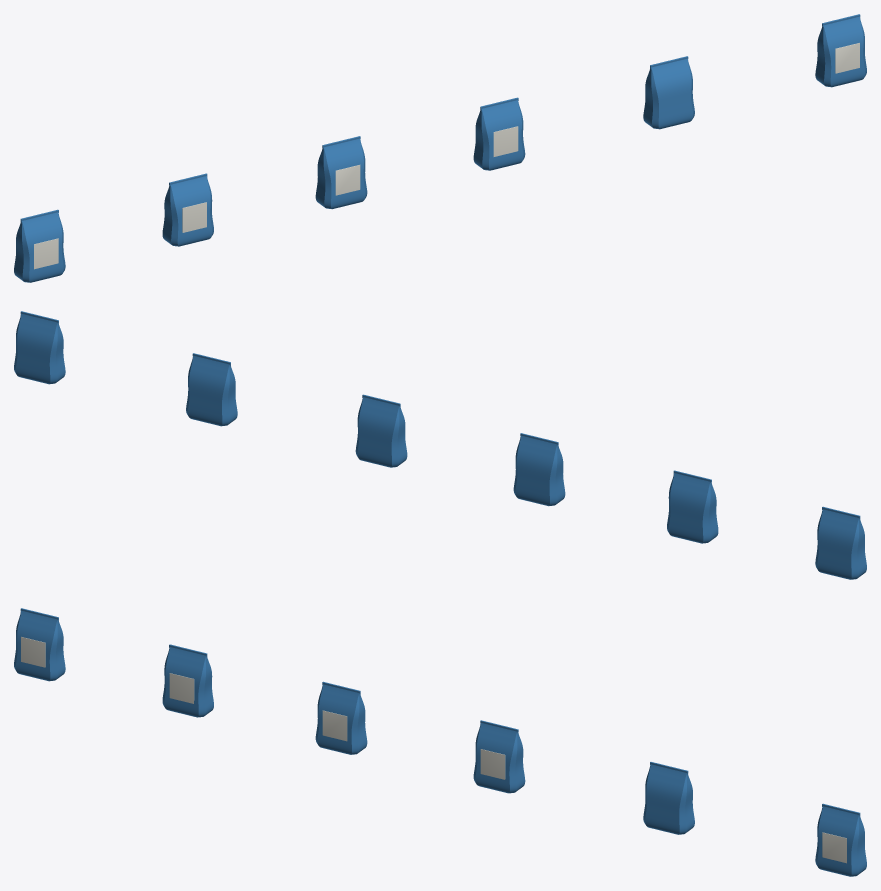
File: pack-check.glb
The picture shows the model from 3 angles, top to bottom: view 1: azimuth 30°, elevation 25°; view 2: azimuth 150°, elevation 25°; view 3: azimuth 330°, elevation 25°; orthographic projection.
Visible parts, largest first — view 1: TCAS_concept_pack_sample_4_formed_pouch, TCAS_concept_pack_sample_2_formed_pouch, TCAS_concept_pack_sample_3_formed_pouch, TCAS_concept_pack_sample_0_formed_pouch, TCAS_concept_pack_sample_1_formed_pouch, TCAS_concept_pack_sample_5_formed_pouch, TCAS_concept_pack_sample_2_label, TCAS_concept_pack_sample_3_label, TCAS_concept_pack_sample_0_label, TCAS_concept_pack_sample_1_label, TCAS_concept_pack_sample_5_label; view 2: TCAS_concept_pack_sample_2_formed_pouch, TCAS_concept_pack_sample_3_formed_pouch, TCAS_concept_pack_sample_1_formed_pouch, TCAS_concept_pack_sample_0_formed_pouch, TCAS_concept_pack_sample_4_formed_pouch, TCAS_concept_pack_sample_5_formed_pouch; view 3: TCAS_concept_pack_sample_4_formed_pouch, TCAS_concept_pack_sample_2_formed_pouch, TCAS_concept_pack_sample_3_formed_pouch, TCAS_concept_pack_sample_5_formed_pouch, TCAS_concept_pack_sample_0_formed_pouch, TCAS_concept_pack_sample_1_formed_pouch, TCAS_concept_pack_sample_3_label, TCAS_concept_pack_sample_2_label, TCAS_concept_pack_sample_1_label, TCAS_concept_pack_sample_0_label, TCAS_concept_pack_sample_5_label.
Part boxes in pixels (x1=…): TCAS_concept_pack_sample_4_formed_pouch: x1=643, y1=58, x2=694, y2=129; TCAS_concept_pack_sample_2_formed_pouch: x1=315, y1=138, x2=367, y2=209; TCAS_concept_pack_sample_3_formed_pouch: x1=473, y1=100, x2=525, y2=170; TCAS_concept_pack_sample_0_formed_pouch: x1=14, y1=212, x2=65, y2=282; TCAS_concept_pack_sample_1_formed_pouch: x1=162, y1=176, x2=213, y2=246; TCAS_concept_pack_sample_5_formed_pouch: x1=815, y1=16, x2=866, y2=87; TCAS_concept_pack_sample_2_label: x1=335, y1=165, x2=360, y2=195; TCAS_concept_pack_sample_3_label: x1=493, y1=126, x2=518, y2=156; TCAS_concept_pack_sample_0_label: x1=34, y1=238, x2=58, y2=269; TCAS_concept_pack_sample_1_label: x1=182, y1=202, x2=206, y2=232; TCAS_concept_pack_sample_5_label: x1=835, y1=43, x2=859, y2=73; TCAS_concept_pack_sample_2_formed_pouch: x1=513, y1=435, x2=565, y2=506; TCAS_concept_pack_sample_3_formed_pouch: x1=355, y1=397, x2=407, y2=467; TCAS_concept_pack_sample_1_formed_pouch: x1=667, y1=473, x2=718, y2=543; TCAS_concept_pack_sample_0_formed_pouch: x1=815, y1=509, x2=866, y2=579; TCAS_concept_pack_sample_4_formed_pouch: x1=186, y1=355, x2=237, y2=426; TCAS_concept_pack_sample_5_formed_pouch: x1=14, y1=313, x2=65, y2=384; TCAS_concept_pack_sample_4_formed_pouch: x1=643, y1=764, x2=694, y2=834; TCAS_concept_pack_sample_2_formed_pouch: x1=315, y1=684, x2=367, y2=754; TCAS_concept_pack_sample_3_formed_pouch: x1=473, y1=723, x2=525, y2=793; TCAS_concept_pack_sample_5_formed_pouch: x1=815, y1=806, x2=866, y2=876; TCAS_concept_pack_sample_0_formed_pouch: x1=14, y1=610, x2=65, y2=681; TCAS_concept_pack_sample_1_formed_pouch: x1=162, y1=647, x2=213, y2=717; TCAS_concept_pack_sample_3_label: x1=480, y1=749, x2=505, y2=779; TCAS_concept_pack_sample_2_label: x1=322, y1=710, x2=347, y2=741; TCAS_concept_pack_sample_1_label: x1=169, y1=673, x2=194, y2=703; TCAS_concept_pack_sample_0_label: x1=21, y1=637, x2=45, y2=667; TCAS_concept_pack_sample_5_label: x1=822, y1=832, x2=846, y2=863.
Bounding box in the file's own units: 3.58 × 0.248 × 0.0991.
